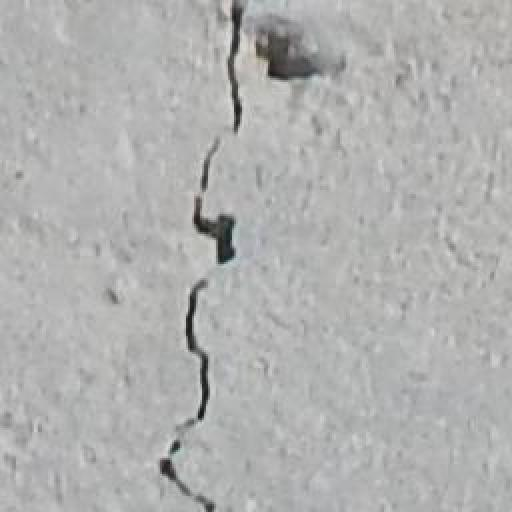spalling: (154, 8, 265, 505)
